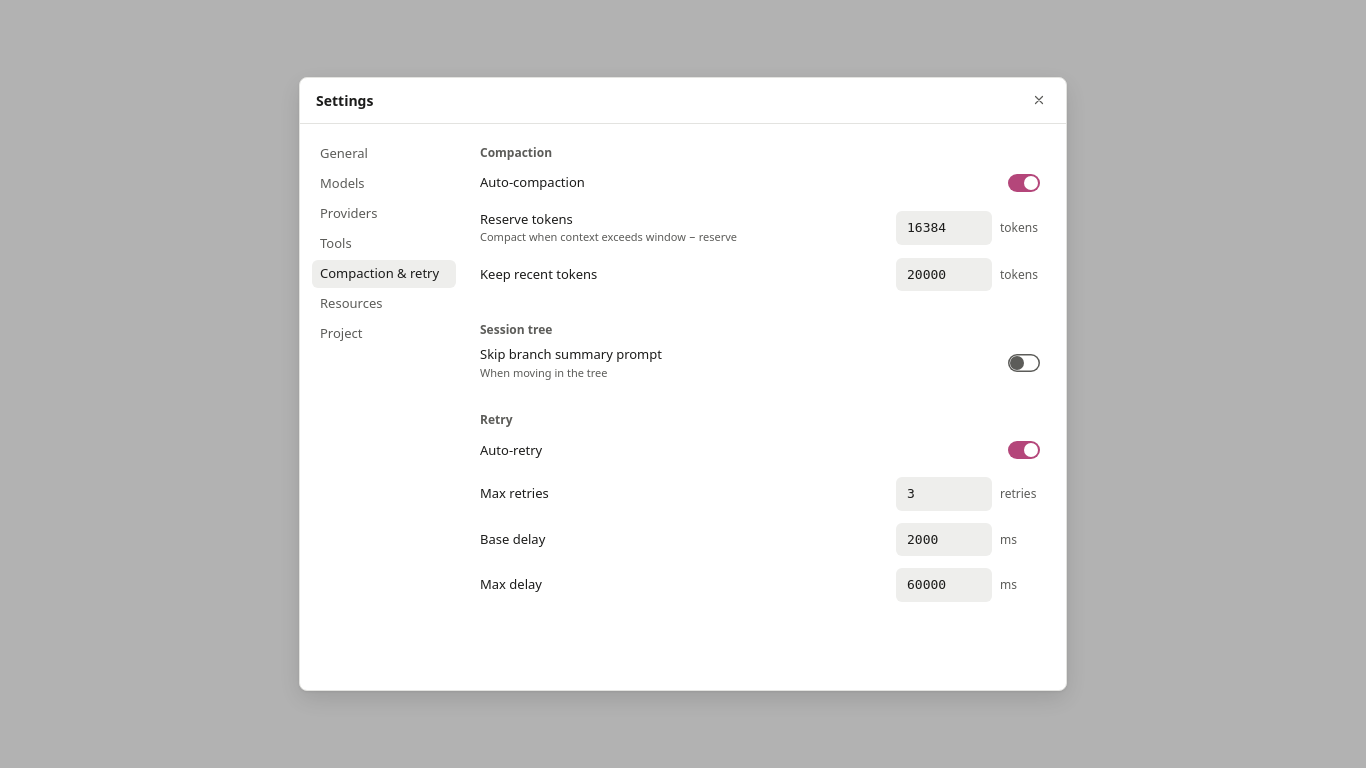
it: Settings controls › rejects a number that isn't whole without saving it
Replace the text in the field labelled "Reserve tokens" with "5.5" at (944, 228), box [896, 211, 992, 244]
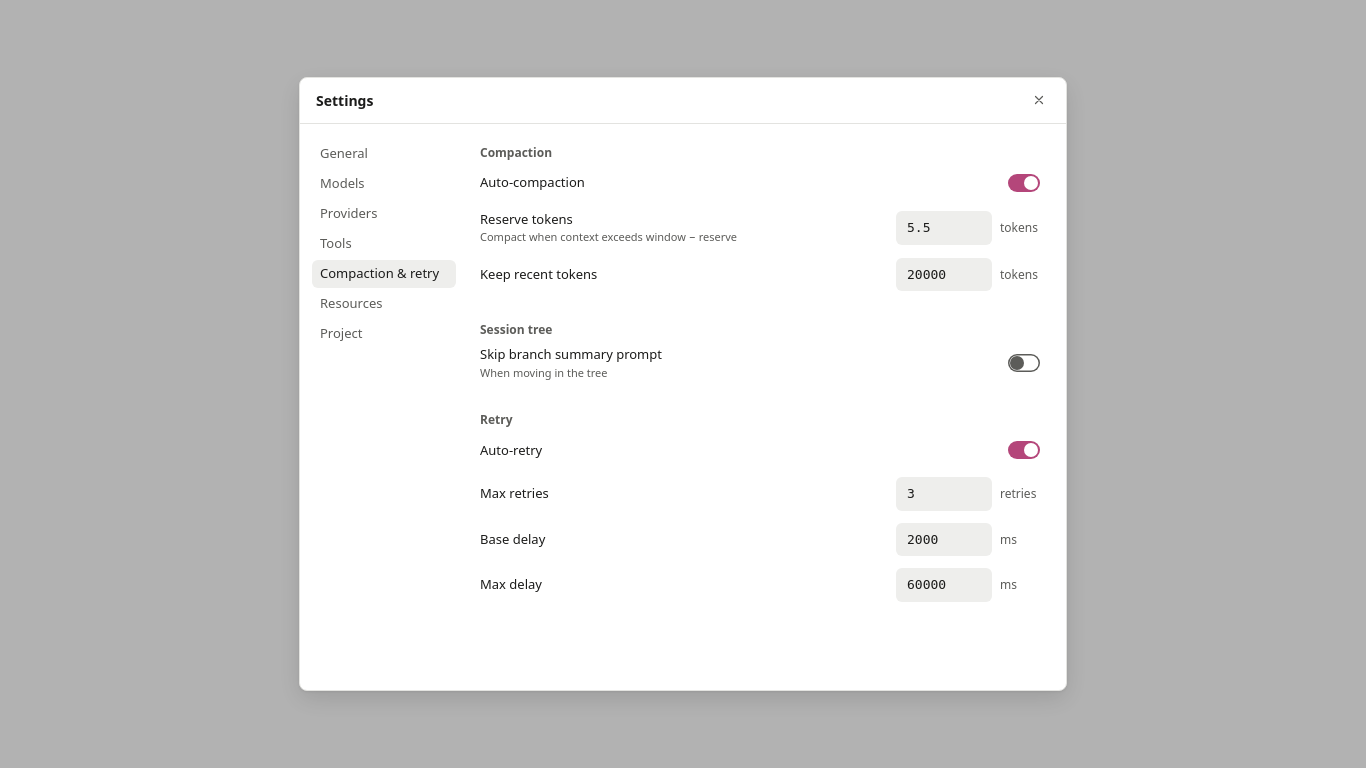
Leave the field labelled "Reserve tokens", box [896, 211, 992, 244]
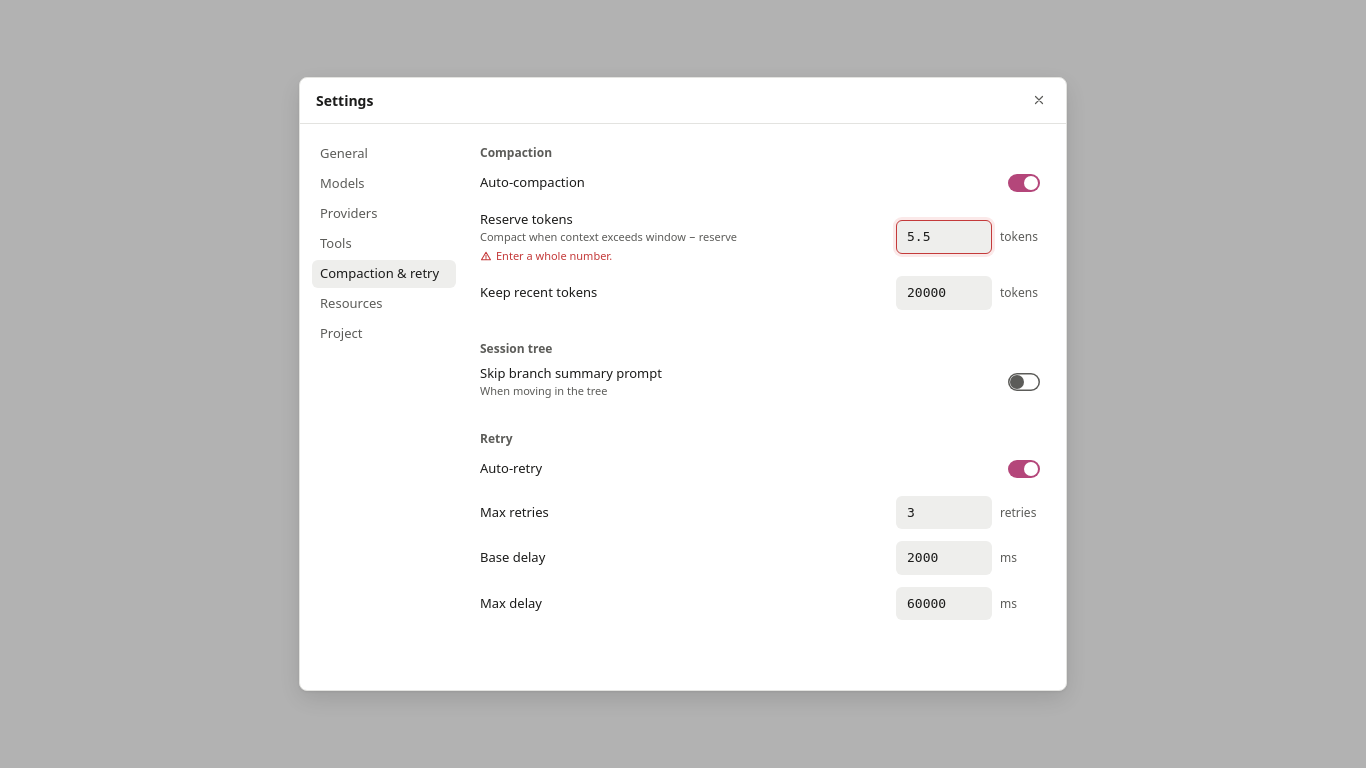
Result: the text "Enter a whole number." is shown at [496, 248, 612, 264]
